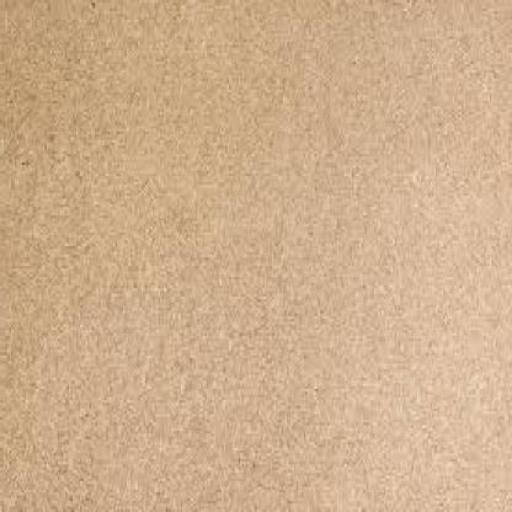cardboard: (1, 2, 511, 511)
